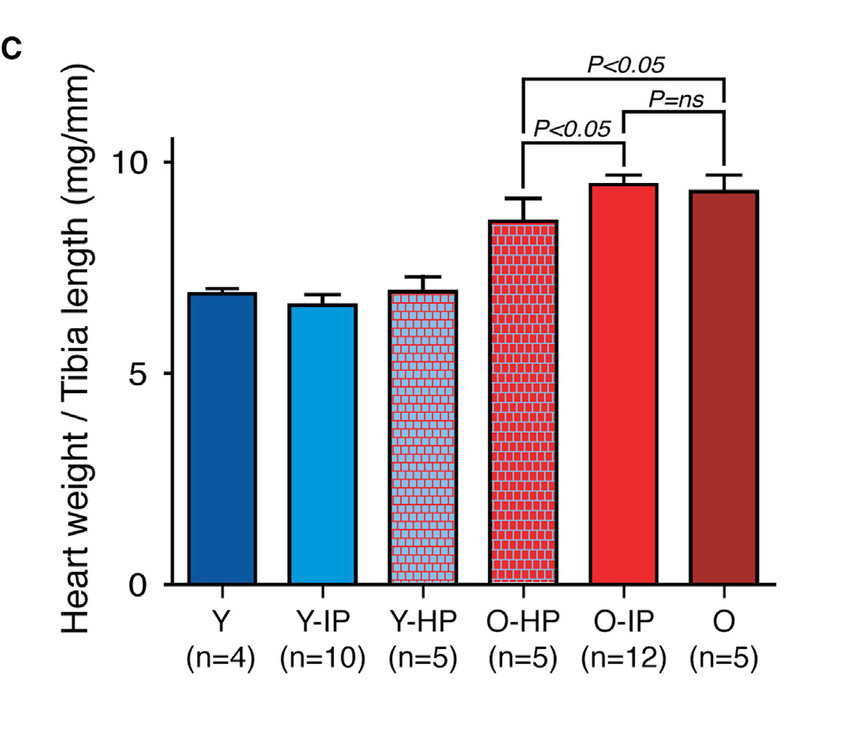OK_NoIssue: (62, 42, 850, 696)
